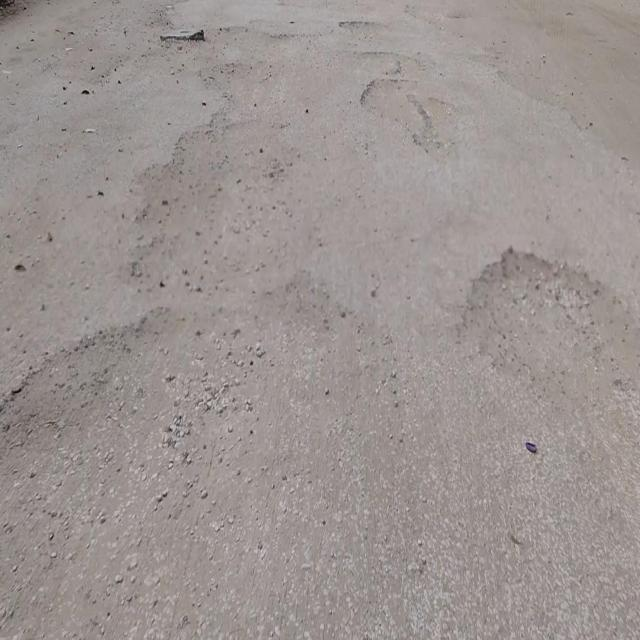Potholes: (457, 247, 640, 434), (358, 80, 427, 144)
